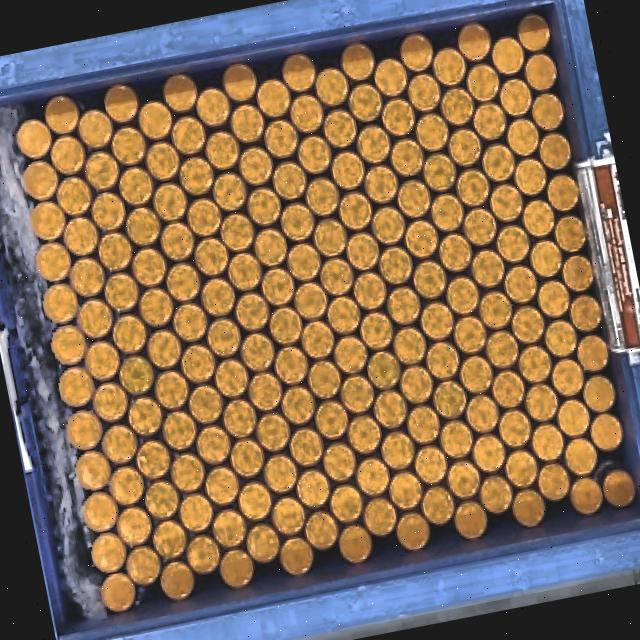vial: (96, 570, 136, 614), (172, 299, 210, 345), (82, 338, 120, 384), (117, 352, 154, 398), (68, 256, 106, 300), (134, 437, 172, 481), (362, 496, 400, 540), (92, 379, 129, 424), (101, 423, 138, 468), (432, 380, 470, 423), (576, 332, 613, 376), (169, 451, 206, 495), (55, 366, 92, 410), (338, 522, 374, 567), (166, 261, 204, 303), (64, 410, 102, 452), (344, 228, 380, 272), (160, 556, 196, 600), (465, 393, 501, 437), (49, 324, 88, 364), (240, 332, 278, 373), (199, 276, 236, 318), (42, 284, 79, 326), (127, 395, 164, 437), (108, 465, 145, 507), (125, 544, 162, 586), (546, 172, 582, 215), (152, 180, 188, 223), (124, 204, 160, 247), (360, 311, 396, 354), (288, 427, 324, 470), (602, 469, 638, 512), (479, 471, 514, 515), (13, 118, 51, 158), (150, 520, 188, 560), (380, 430, 418, 470), (304, 176, 341, 217), (532, 91, 568, 133), (539, 132, 575, 174), (170, 114, 206, 156), (270, 160, 306, 202), (220, 212, 256, 254), (318, 256, 354, 298), (139, 286, 175, 328), (234, 292, 270, 334), (34, 242, 70, 284), (146, 327, 182, 369), (484, 329, 520, 371), (570, 292, 606, 334), (196, 424, 232, 466), (117, 504, 153, 546), (211, 505, 247, 547), (230, 438, 266, 480), (355, 456, 391, 498), (412, 444, 448, 486), (489, 180, 524, 223), (132, 247, 167, 290), (246, 520, 280, 564), (80, 492, 118, 531), (461, 206, 498, 246), (469, 248, 506, 288), (509, 304, 546, 344), (136, 100, 173, 140), (44, 94, 81, 134), (90, 191, 127, 231), (153, 370, 190, 410), (75, 452, 112, 492), (88, 532, 125, 572), (143, 480, 180, 520), (203, 466, 240, 506), (303, 510, 340, 550), (313, 400, 350, 440), (495, 223, 531, 264), (50, 135, 86, 176), (178, 155, 214, 196), (312, 216, 348, 257), (294, 281, 330, 322), (111, 312, 147, 353), (181, 344, 217, 385), (543, 319, 579, 360), (188, 384, 224, 425), (161, 411, 197, 452), (222, 399, 258, 440), (415, 110, 450, 152), (321, 107, 356, 149), (337, 188, 372, 230), (178, 492, 213, 534), (270, 494, 305, 536), (329, 482, 364, 524), (515, 154, 549, 197), (298, 468, 332, 511), (516, 14, 552, 54), (340, 40, 376, 80), (524, 52, 560, 92), (380, 98, 416, 138), (377, 246, 413, 286), (254, 78, 290, 118), (221, 62, 257, 102), (264, 118, 300, 158), (204, 130, 240, 170), (84, 152, 120, 192), (186, 198, 222, 238), (192, 238, 228, 278), (386, 286, 422, 326), (398, 366, 434, 406), (550, 358, 586, 398), (256, 412, 292, 452), (185, 534, 221, 574), (220, 548, 256, 588), (347, 414, 383, 454), (396, 512, 432, 552), (506, 117, 541, 158), (119, 166, 154, 207), (207, 317, 242, 358), (261, 267, 296, 308), (306, 358, 341, 399), (584, 373, 619, 414), (330, 148, 364, 190), (280, 200, 314, 242), (228, 252, 262, 294), (64, 217, 98, 259), (216, 358, 250, 400), (323, 441, 357, 483), (398, 30, 434, 69), (371, 206, 407, 245), (418, 303, 454, 342), (159, 223, 195, 262), (104, 273, 140, 312), (460, 356, 496, 395), (498, 409, 534, 448), (568, 477, 604, 516), (472, 102, 507, 142), (504, 264, 539, 304), (451, 314, 486, 354), (56, 176, 91, 216), (246, 187, 281, 227), (253, 227, 288, 267), (352, 272, 387, 312), (326, 296, 361, 336), (426, 342, 461, 382), (238, 480, 273, 520), (264, 454, 299, 494), (389, 470, 424, 510), (440, 420, 475, 460), (454, 500, 489, 540), (23, 160, 57, 201), (78, 298, 112, 339), (300, 319, 334, 360), (248, 371, 282, 412), (492, 371, 526, 412), (374, 390, 408, 431), (503, 447, 537, 488), (436, 234, 472, 272), (552, 214, 588, 252), (162, 74, 198, 112), (103, 84, 139, 122), (144, 142, 180, 180), (332, 336, 368, 374), (524, 383, 560, 421), (356, 125, 391, 164), (297, 136, 332, 175), (366, 352, 401, 391), (408, 404, 443, 443), (457, 20, 491, 60), (562, 254, 596, 294), (290, 94, 324, 134), (286, 242, 320, 282), (98, 232, 132, 272), (276, 346, 310, 386), (281, 386, 315, 426), (520, 344, 554, 384), (280, 536, 314, 576), (473, 434, 507, 474), (538, 460, 572, 500), (500, 78, 533, 119), (590, 414, 626, 451), (422, 152, 457, 190), (448, 127, 482, 166), (536, 280, 570, 319), (230, 105, 264, 144), (238, 147, 272, 186), (456, 166, 489, 206), (394, 328, 427, 368), (558, 397, 590, 438), (492, 38, 526, 76), (348, 84, 382, 122), (364, 166, 398, 204), (522, 198, 556, 236), (478, 290, 512, 328), (196, 88, 230, 126), (112, 126, 146, 164), (340, 375, 374, 413), (422, 486, 456, 524), (512, 488, 546, 526), (213, 172, 246, 211), (398, 179, 430, 219), (270, 306, 302, 346), (208, 318, 240, 358), (532, 422, 564, 462), (412, 262, 446, 299), (409, 72, 442, 110), (433, 48, 466, 86), (466, 63, 499, 101), (482, 142, 515, 180), (530, 239, 563, 277), (406, 219, 438, 258), (282, 56, 316, 92), (391, 139, 424, 176), (448, 460, 480, 498), (564, 437, 596, 475), (446, 278, 479, 314), (441, 87, 473, 124), (80, 111, 112, 148), (376, 59, 408, 95), (432, 194, 464, 230), (317, 70, 348, 102)
